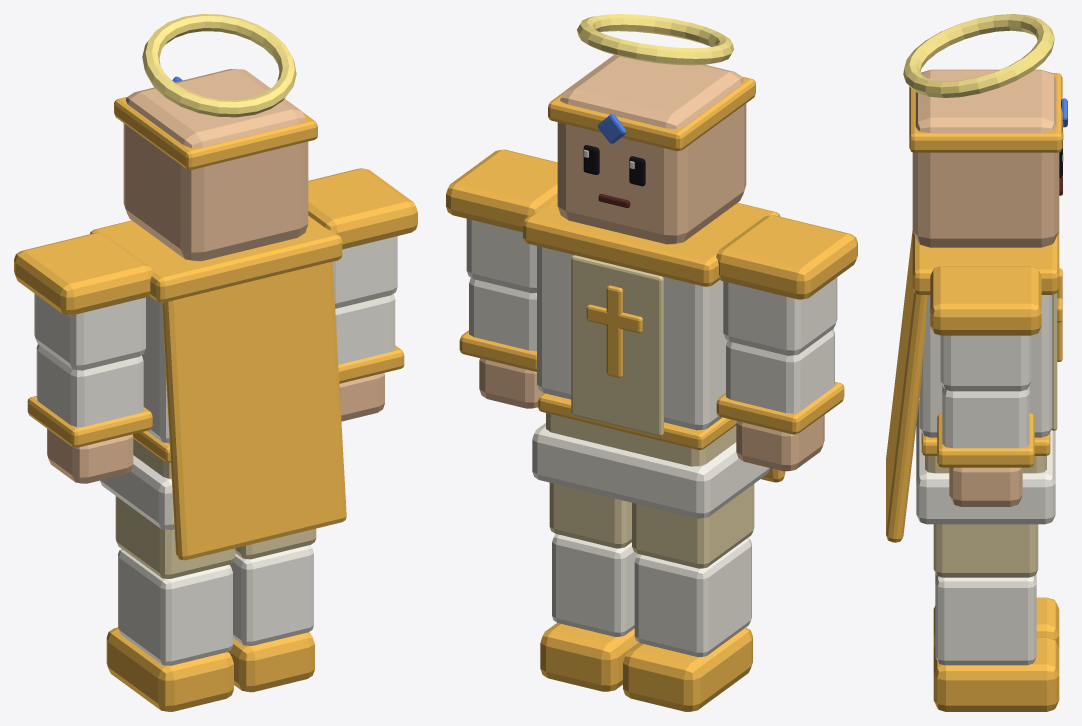
File: Cleric.glb
The picture shows the model from 3 angles, left to right: view 1: azimuth 30°, elevation 25°; view 2: azimuth 150°, elevation 25°; view 3: azimuth 270°, elevation 25°; orthographic projection. The views are drawn at different scales.
Visible parts, largest first — view 1: UpperTorso, Head, LeftUpperArm, LeftLowerLeg, RightUpperArm, LeftLowerArm, RightLowerLeg, LeftFoot, RightLowerArm, LowerTorso, LeftUpperLeg, RightFoot (+3 smaller); view 2: UpperTorso, Head, LowerTorso, LeftUpperArm, RightUpperArm, LeftLowerLeg, LeftLowerArm, RightLowerLeg, LeftFoot, LeftUpperLeg, RightLowerArm, RightFoot (+3 smaller); view 3: Head, UpperTorso, RightUpperArm, RightLowerLeg, RightLowerArm, LowerTorso, RightFoot, RightUpperLeg, RightHand, LeftFoot.
Part boxes in pixels (bbox=[...]): UpperTorso: bbox=[90, 216, 346, 560]; Head: bbox=[114, 14, 317, 261]; LeftUpperArm: bbox=[14, 232, 153, 370]; LeftLowerLeg: bbox=[118, 549, 232, 665]; RightUpperArm: bbox=[308, 168, 417, 308]; LeftLowerArm: bbox=[27, 344, 152, 447]; RightLowerLeg: bbox=[229, 545, 313, 646]; LeftFoot: bbox=[106, 627, 233, 711]; RightLowerArm: bbox=[335, 294, 404, 383]; LowerTorso: bbox=[100, 431, 174, 530]; LeftUpperLeg: bbox=[115, 496, 235, 578]; RightFoot: bbox=[228, 632, 314, 692]; UpperTorso: bbox=[523, 198, 785, 482]; Head: bbox=[548, 14, 755, 244]; LowerTorso: bbox=[532, 393, 770, 518]; LeftUpperArm: bbox=[716, 215, 857, 355]; RightUpperArm: bbox=[446, 149, 557, 293]; LeftLowerLeg: bbox=[634, 538, 751, 657]; LeftLowerArm: bbox=[716, 329, 844, 434]; RightLowerLeg: bbox=[552, 534, 637, 636]; LeftFoot: bbox=[623, 627, 752, 711]; LeftUpperLeg: bbox=[632, 484, 754, 568]; RightLowerArm: bbox=[459, 278, 536, 371]; RightFoot: bbox=[540, 623, 639, 691]; Head: bbox=[903, 14, 1067, 247]; UpperTorso: bbox=[886, 231, 1062, 542]; RightUpperArm: bbox=[930, 266, 1041, 391]; RightLowerLeg: bbox=[935, 573, 1036, 665]; RightLowerArm: bbox=[937, 385, 1034, 467]; LowerTorso: bbox=[916, 400, 1055, 524]; RightFoot: bbox=[933, 637, 1059, 711]; RightUpperLeg: bbox=[933, 524, 1038, 577]; RightHand: bbox=[949, 467, 1022, 506]; LeftFoot: bbox=[933, 597, 1059, 648].
Size of the model in its own units: 1.19 by 2.05 by 0.5217.
2 materials, 1 textured.
